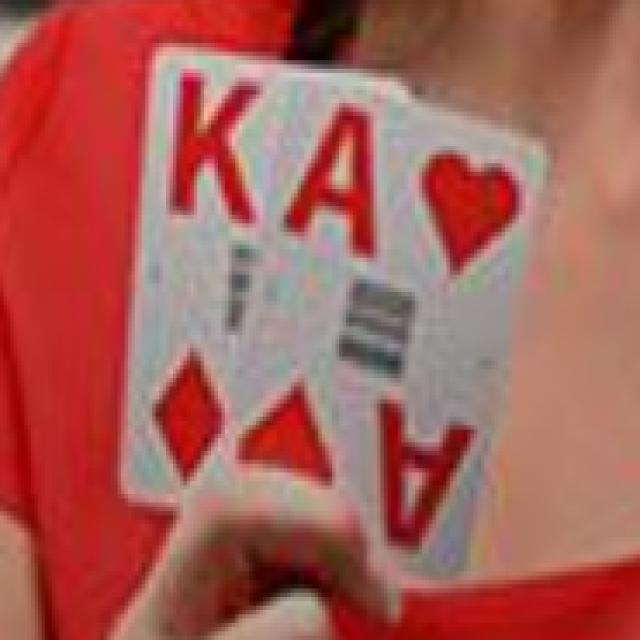Card-A: (226, 71, 552, 575)
Card-K: (120, 42, 296, 498)
